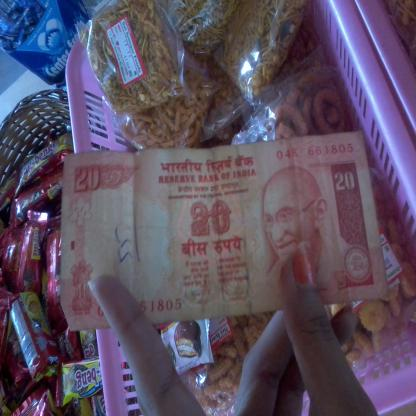Old20Front: (59, 131, 390, 331)
